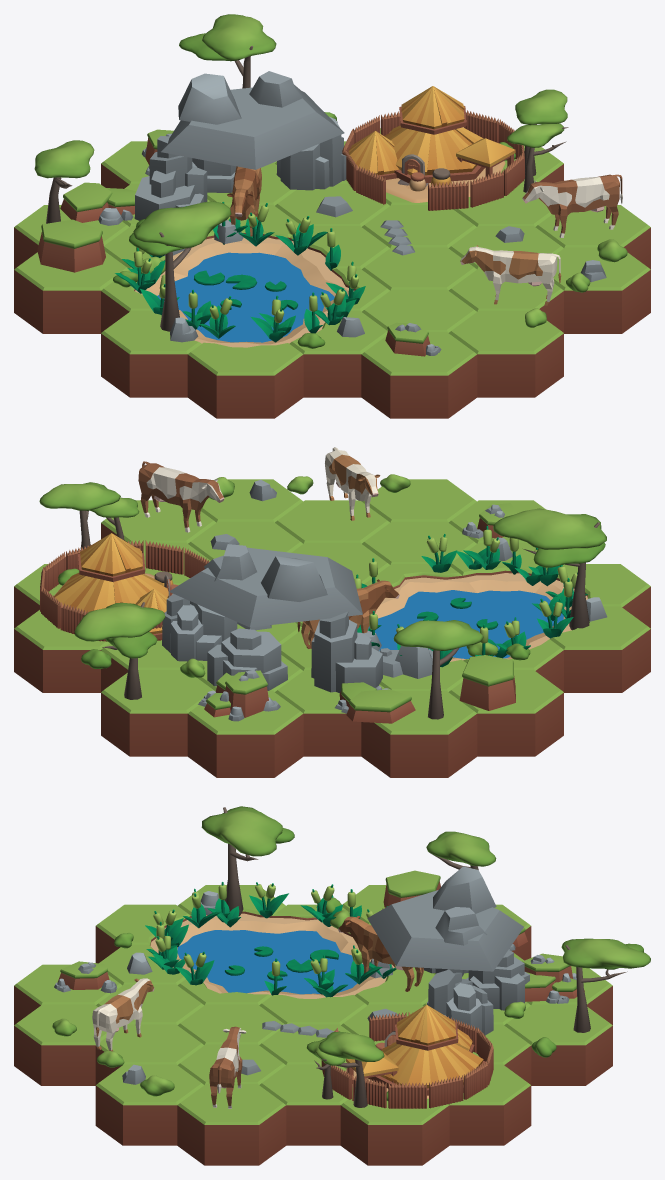
File: Mubari.fbx
3 renders of one model, top to bottom at view 1: azimuth 30°, elevation 25°; view 2: azimuth 150°, elevation 25°; view 3: azimuth 270°, elevation 25°, orthographic. The views are drawn at different scales.
Parts seen in each view (by area): view 1: Mubari_Board, Mubari_Savanna, Mubari_Ikinani, Mubari_Homestead, Mubari_Lakeshore, Cow_2, Cow_3, Cow_1; view 2: Mubari_Board, Mubari_Savanna, Mubari_Ikinani, Mubari_Homestead, Mubari_Lakeshore, Cow_2, Cow_3, Cow_1; view 3: Mubari_Board, Mubari_Savanna, Mubari_Ikinani, Mubari_Homestead, Mubari_Lakeshore, Cow_3, Cow_2, Cow_1.
Part boxes in pixels (x1=…): Mubari_Board: x1=14, y1=128, x2=650, y2=418; Mubari_Savanna: x1=34, y1=14, x2=627, y2=356; Mubari_Ikinani: x1=134, y1=71, x2=352, y2=255; Mubari_Homestead: x1=342, y1=86, x2=524, y2=210; Mubari_Lakeshore: x1=115, y1=202, x2=365, y2=342; Cow_2: x1=522, y1=174, x2=622, y2=237; Cow_3: x1=460, y1=245, x2=561, y2=305; Cow_1: x1=227, y1=166, x2=261, y2=236; Mubari_Board: x1=14, y1=479, x2=650, y2=777; Mubari_Savanna: x1=39, y1=474, x2=607, y2=723; Mubari_Ikinani: x1=162, y1=544, x2=432, y2=693; Mubari_Homestead: x1=40, y1=533, x2=209, y2=641; Mubari_Lakeshore: x1=354, y1=525, x2=587, y2=667; Cow_2: x1=138, y1=461, x2=224, y2=532; Cow_3: x1=325, y1=447, x2=380, y2=520; Cow_1: x1=297, y1=579, x2=399, y2=648; Mubari_Board: x1=14, y1=885, x2=612, y2=1165; Mubari_Savanna: x1=52, y1=806, x2=650, y2=1107; Mubari_Ikinani: x1=367, y1=866, x2=529, y2=1035; Mubari_Homestead: x1=321, y1=1004, x2=493, y2=1108; Mubari_Lakeshore: x1=145, y1=882, x2=396, y2=997; Cow_3: x1=92, y1=978, x2=154, y2=1051; Cow_2: x1=209, y1=1026, x2=246, y2=1108; Cow_1: x1=338, y1=916, x2=423, y2=991.
Bounding box in the file's own units: 24 × 7.1 × 27.02.
12 materials, 3 textured.
